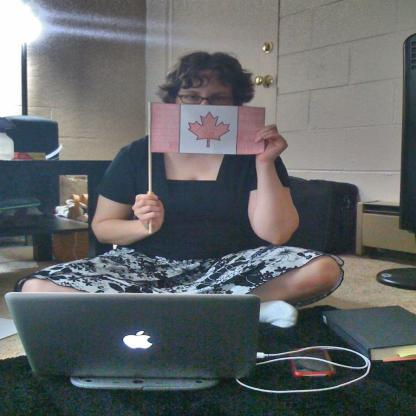board: (3, 292, 261, 377)
